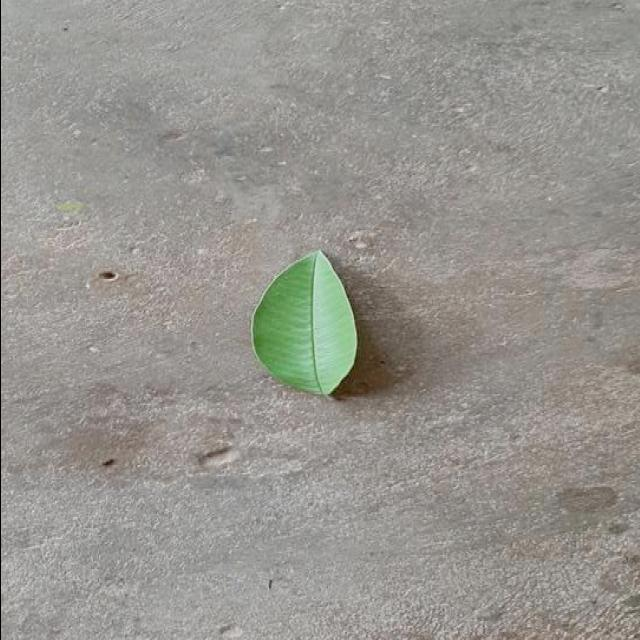leaf: (250, 248, 358, 396)
